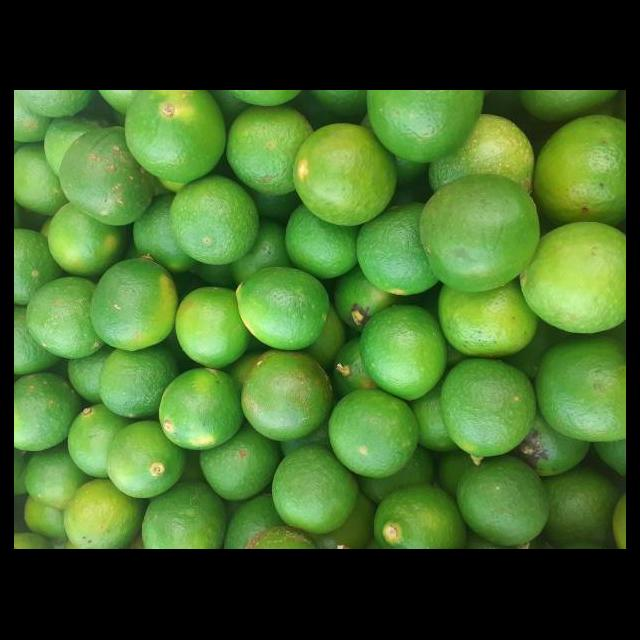lime: (418, 176, 542, 296), (55, 128, 166, 228), (239, 350, 336, 444)
